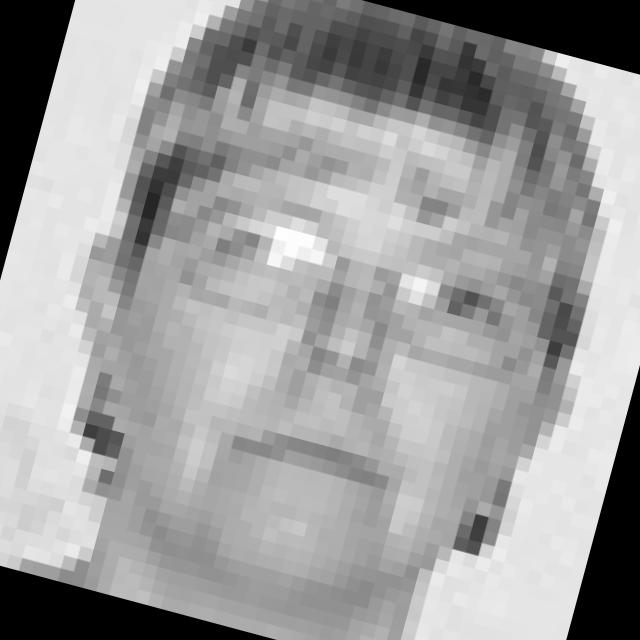neutral: (121, 168, 540, 544)
